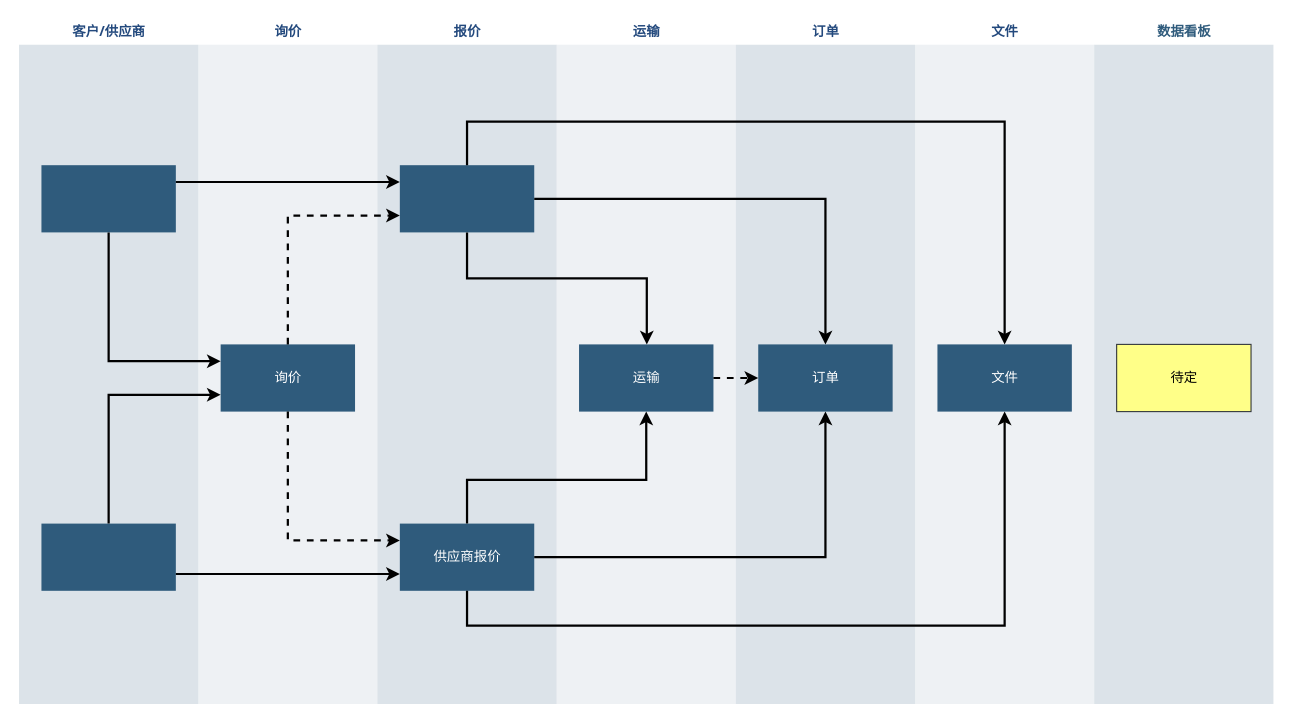
Some shapes in this 1292 by 724 pixel diagram are drawn without their labels. Each missing label, with the centre of its shape:
供应商: point (108, 556)
客户: point (108, 198)
客户报价: point (466, 198)
